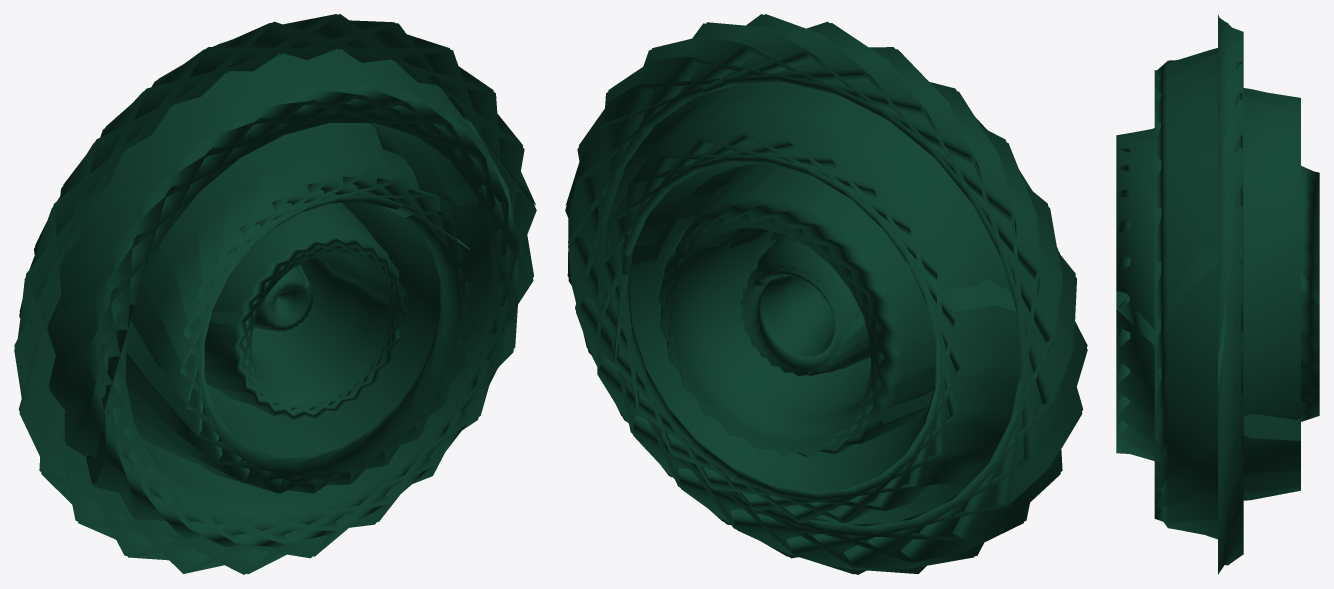
The model's file is lichtenberg-fractal-solid (6).glb.
The picture shows the model from 3 angles, left to right: view 1: azimuth 30°, elevation 25°; view 2: azimuth 150°, elevation 25°; view 3: azimuth 270°, elevation 25°; orthographic projection. The views are drawn at different scales.
Parts seen in each view (by area): view 1: lichtenberg_fractal_solid; view 2: lichtenberg_fractal_solid; view 3: lichtenberg_fractal_solid.
Part boxes in pixels (<box>): lichtenberg_fractal_solid: <box>14,14,536,574</box>; lichtenberg_fractal_solid: <box>565,14,1087,574</box>; lichtenberg_fractal_solid: <box>1116,14,1319,574</box>.
Size of the model in its own units: 2 by 1.99 by 0.7236.
